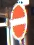No entry: (6, 5, 29, 40)
